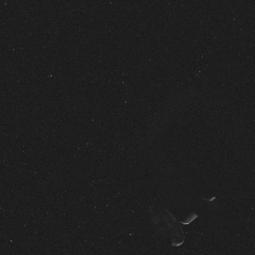cheops: (136, 170, 226, 250)
